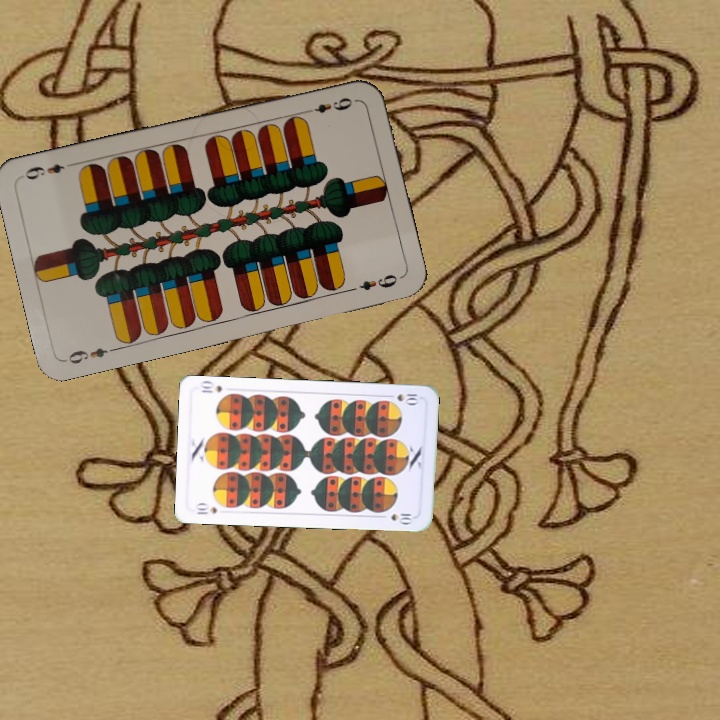E9: (61, 343, 120, 367), (301, 93, 355, 116)
S10: (382, 388, 422, 407), (192, 499, 220, 517)
